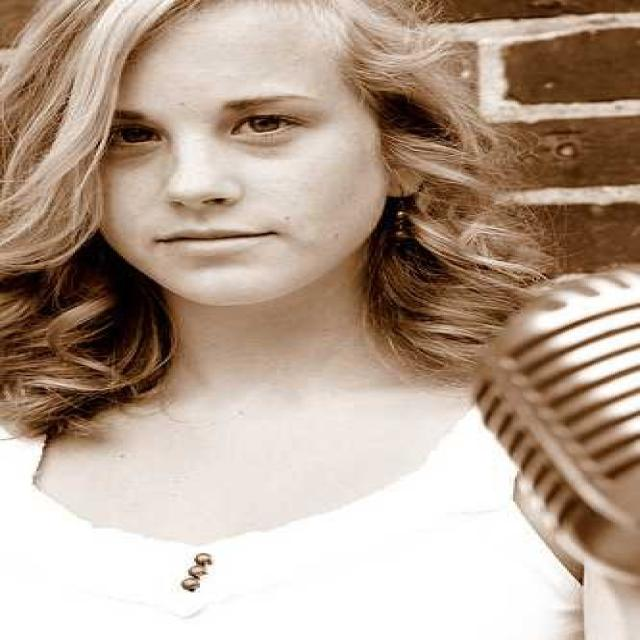microphone: (440, 255, 640, 591)
